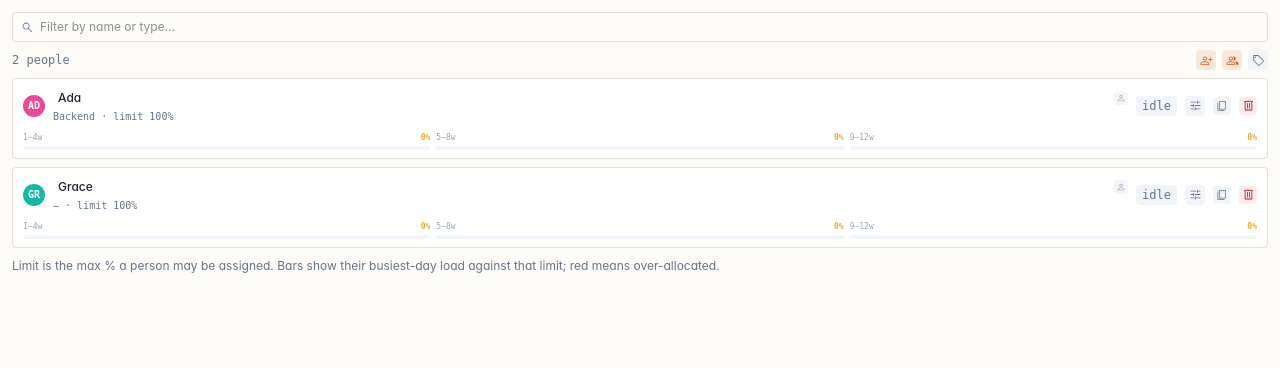
Test case: resource types are Pulse configuration, not a person's › stays shut until its icon button is used
Expected: the text "RESOURCE TYPES" is not shown
Click the button named "Manage resource types" at (1258, 60), box [1248,50,1268,70]
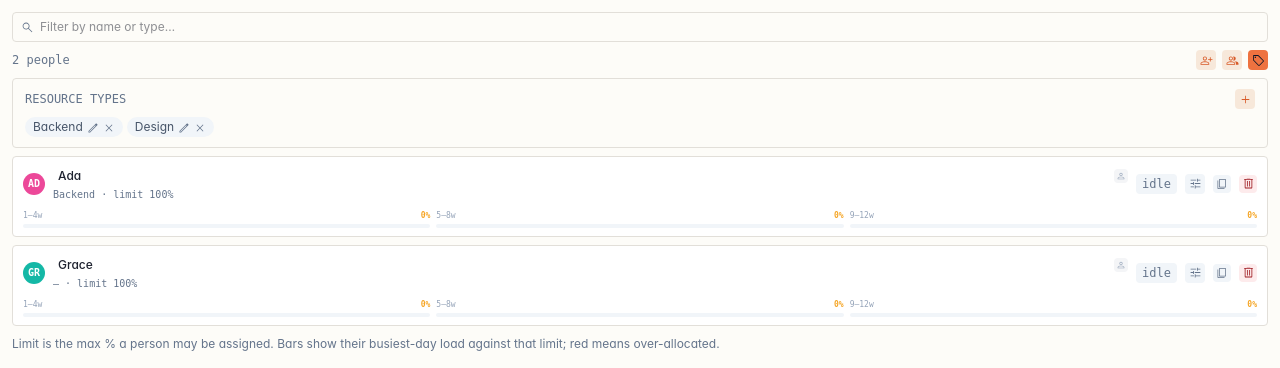
Now the text "RESOURCE TYPES" is shown, box [25,91,126,107]
